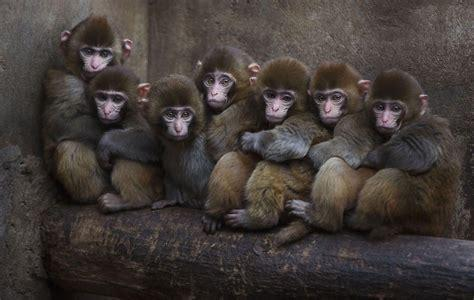monkey: (203, 55, 320, 233), (348, 68, 459, 238), (277, 61, 371, 245), (46, 18, 130, 201), (64, 70, 150, 212), (146, 77, 211, 206), (195, 48, 260, 155)
